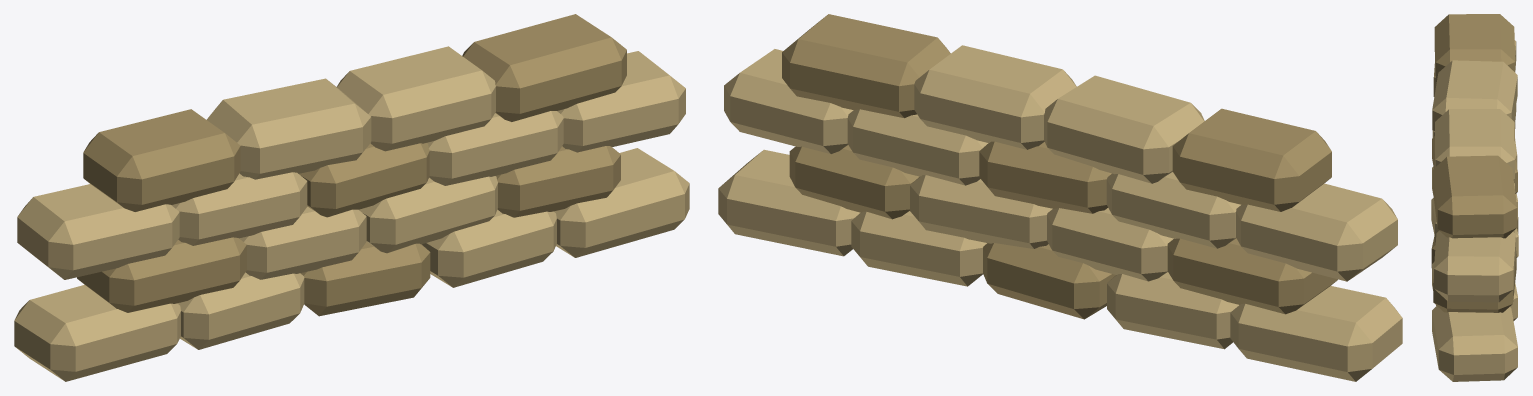
File: sandbag_wall.glb
The picture shows the model from 3 angles, left to right: view 1: azimuth 30°, elevation 25°; view 2: azimuth 150°, elevation 25°; view 3: azimuth 270°, elevation 25°; orthographic projection. The views are drawn at different scales.
Parts seen in each view (by area): view 1: LOD0; view 2: LOD0; view 3: LOD0.
Part boxes in pixels (<box>): LOD0: <box>14,14,689,381</box>; LOD0: <box>718,14,1402,381</box>; LOD0: <box>1431,14,1518,381</box>.
Size of what is drawn, in the model's own units: 3.06 by 0.94 by 0.4611.
Materials: 1 (1 with a texture image).
